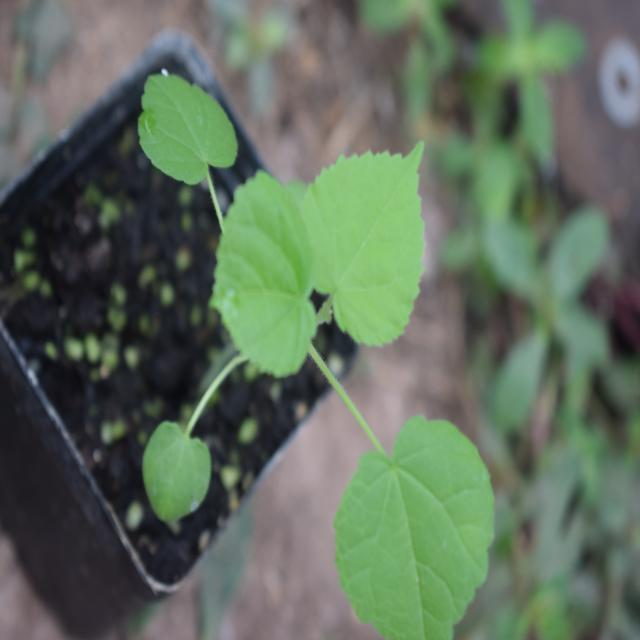abutilon theophrasti: (128, 58, 494, 632)
